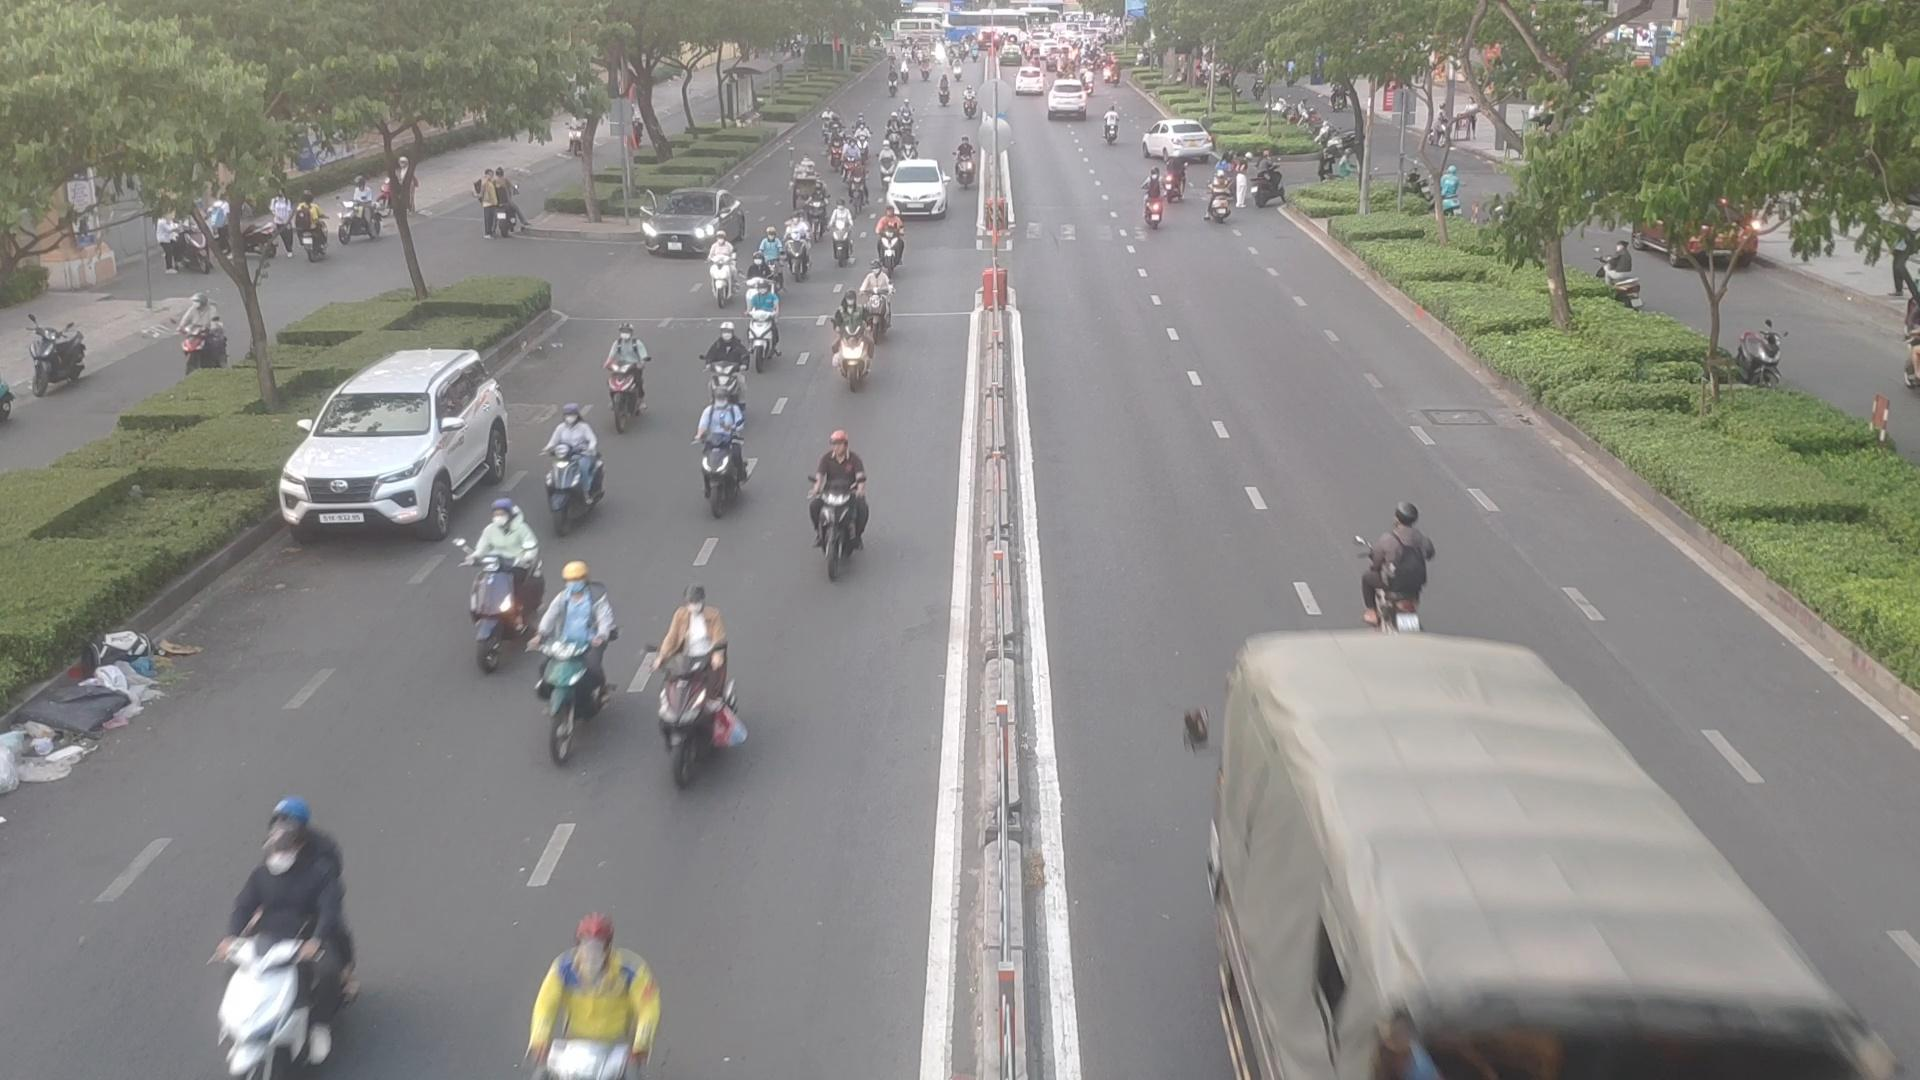car: (1207, 651, 1832, 1080), (281, 353, 516, 542), (637, 187, 742, 251), (884, 162, 953, 222), (1146, 120, 1221, 164)
motorbike: (202, 796, 377, 1080), (641, 570, 725, 810), (1331, 495, 1443, 662), (525, 574, 608, 754), (796, 415, 868, 589), (460, 502, 525, 678), (535, 396, 615, 531), (690, 389, 752, 500), (603, 320, 655, 423), (829, 291, 869, 389), (698, 324, 742, 402), (705, 229, 740, 307), (855, 261, 887, 342), (746, 286, 775, 363), (1139, 169, 1166, 231), (877, 204, 902, 268), (789, 214, 811, 280), (1207, 171, 1234, 224), (828, 200, 851, 264), (844, 160, 864, 210), (808, 187, 827, 237), (951, 135, 969, 185), (1164, 156, 1184, 199), (895, 129, 916, 169), (824, 123, 844, 164), (873, 138, 891, 179), (843, 142, 856, 179), (851, 121, 865, 152)
